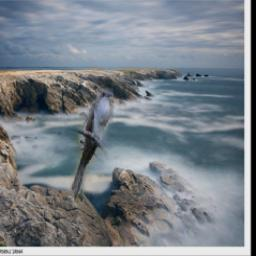Cuckoo: (69, 88, 112, 203)
